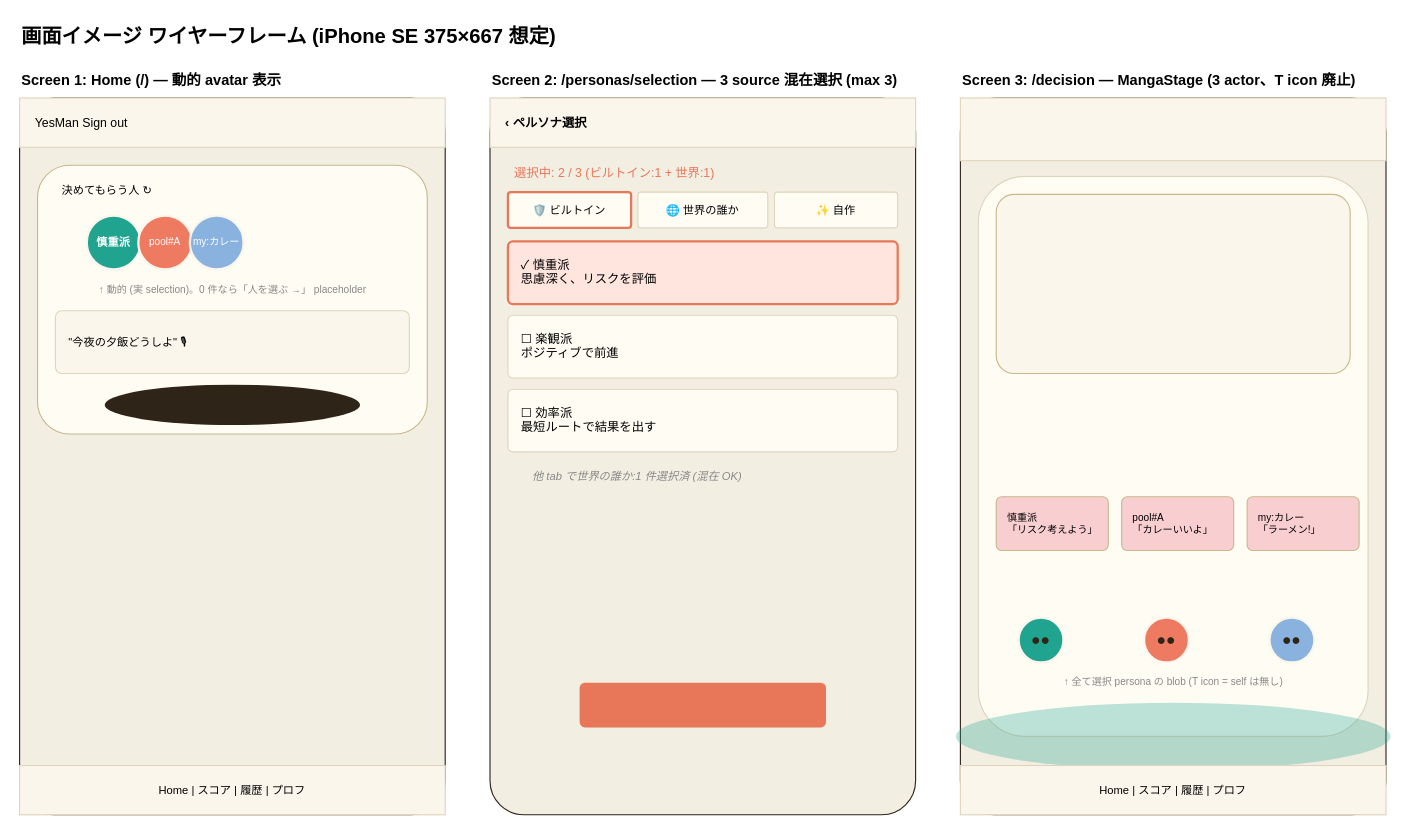
Image size: 1410x834. Some labels were removed from this diagram. The shapes that lost their labels are listed below. From the top down, each one's centre as x and y in pixels, then its label:
[1172,129]: ‹ 決め中 "今夜の夕食" ● 3 人で 考え中
[1172,283]: 冷蔵庫の残り物で 10 分で一品作れ。 [ ← No ] [ Yes → ] 合議された結論です。
[232,404]: 決めてもらう
[702,704]: 保存して戻る
